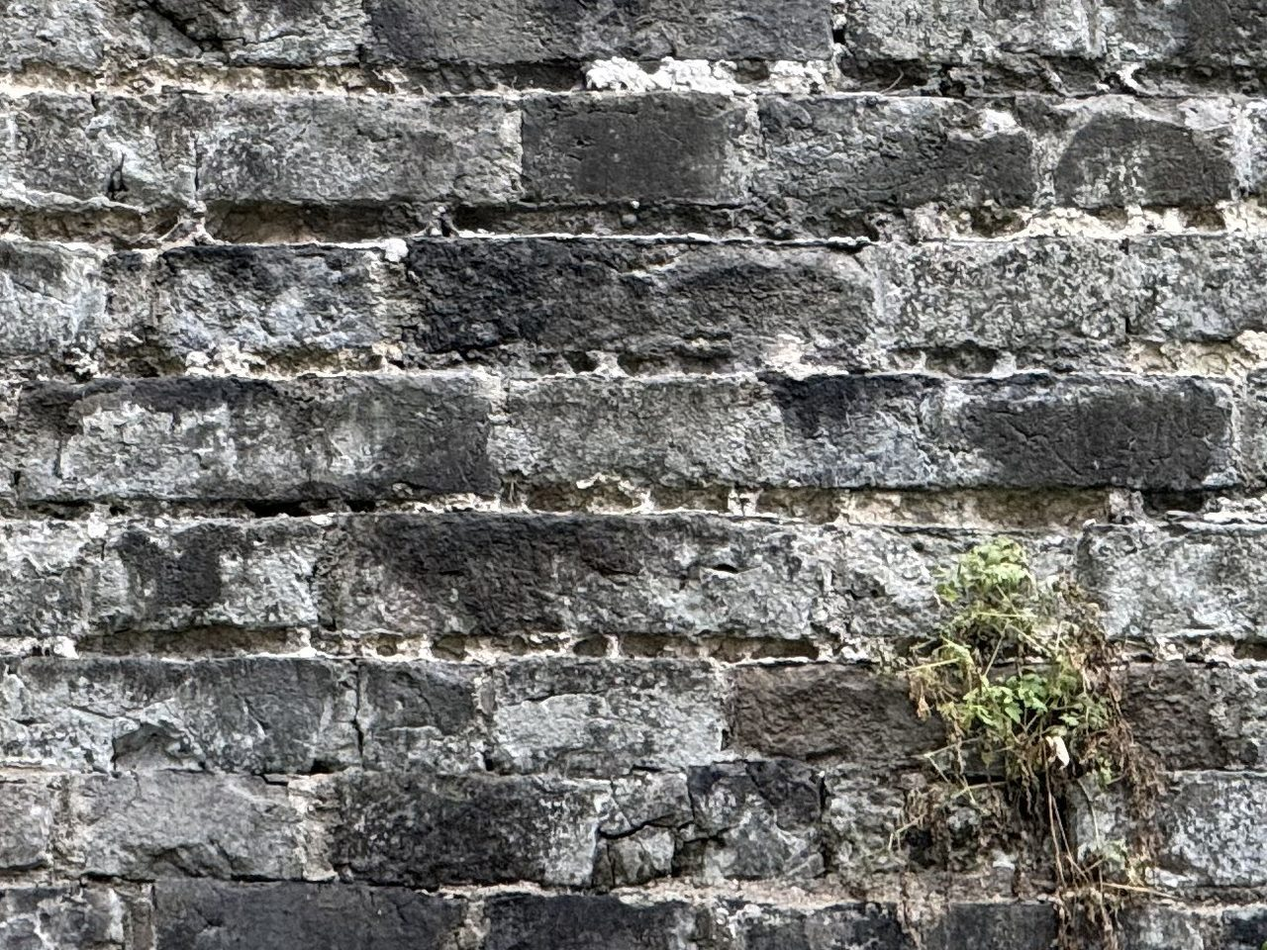vegetation: (880, 533, 1165, 856)
